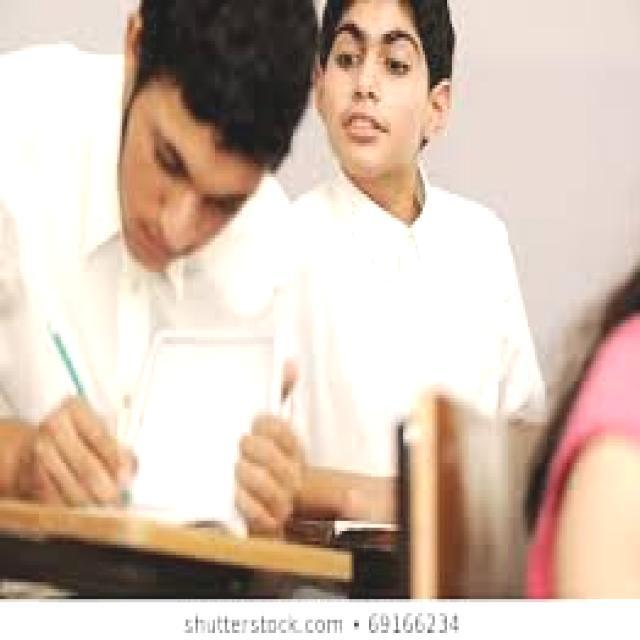cheating: (307, 0, 544, 424)
good: (0, 0, 324, 548)
